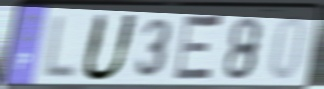0: (267, 14, 310, 83)
3: (134, 16, 174, 80)
8: (224, 15, 264, 82)
E: (170, 11, 226, 85)
L: (39, 13, 79, 83)
U: (78, 11, 142, 84)
